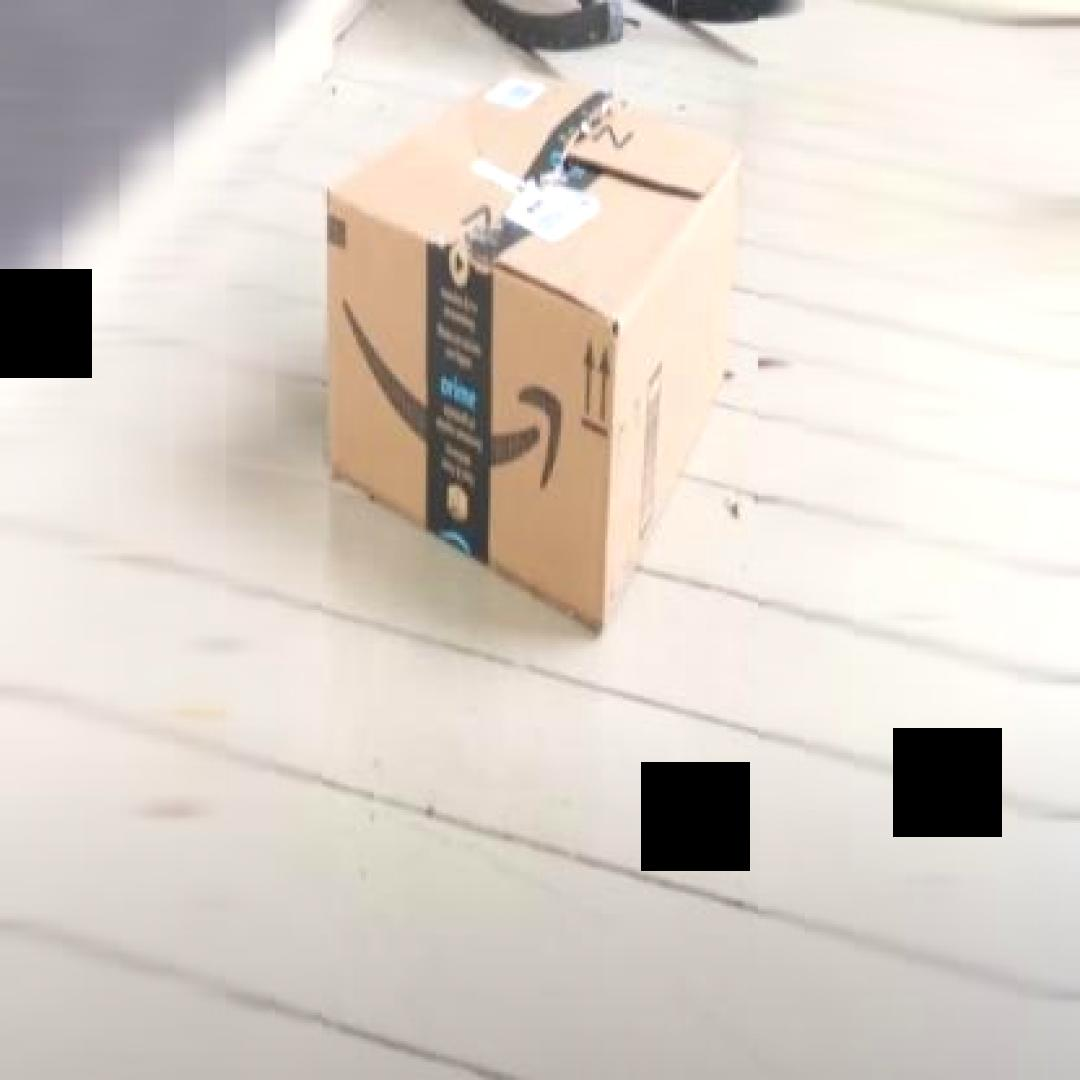package: (322, 59, 738, 652)
